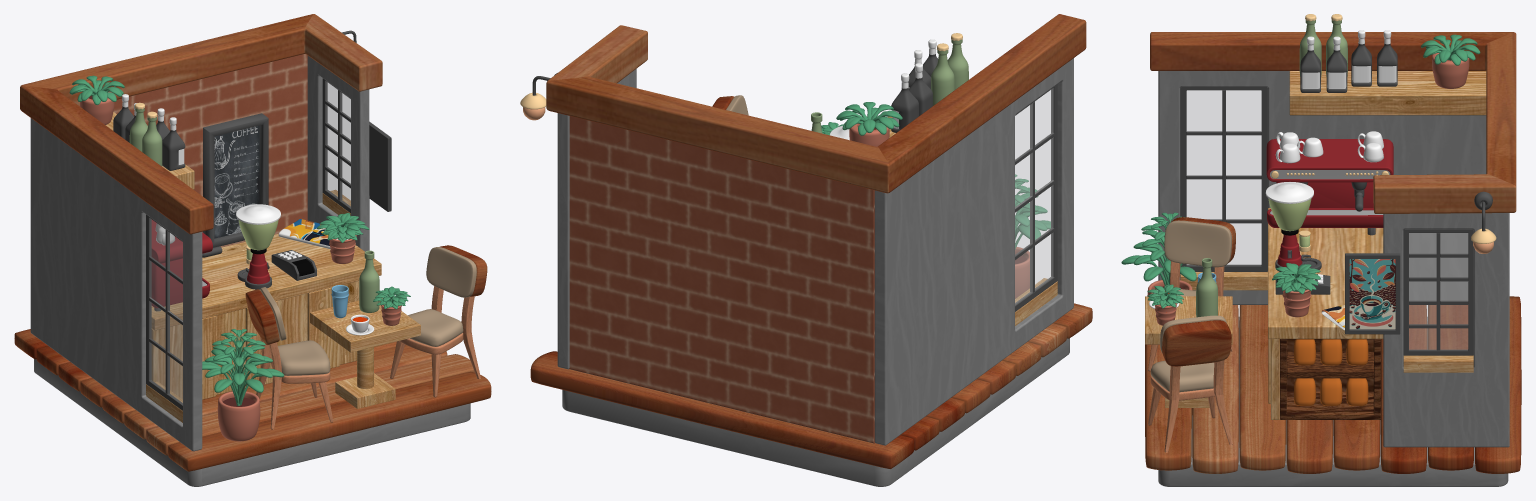
3 renders of one model, left to right at view 1: azimuth 30°, elevation 25°; view 2: azimuth 150°, elevation 25°; view 3: azimuth 270°, elevation 25°, orthographic. The views are drawn at different scales.
Visible parts, largest first — view 1: Base, Stand, Table_Side_1, glass.002, glass.001, Plane.185, Circle.041, Plant_4; view 2: Base, glass.002, Plane.188, Circle.043, Table_Side_1, Circle.041, Plane.187; view 3: Base, Stand, Table_Side_1, glass.002, Table_Side_2, glass.001, Plane.186, Plant_4, Plane.188, Plane.187, Plane.185, Circle.041 (+1 smaller).
Boxes of the visible parts, x1=… form: Base: x1=14, y1=14, x2=491, y2=486; Stand: x1=151, y1=204, x2=381, y2=399; Table_Side_1: x1=245, y1=245, x2=487, y2=429; glass.002: x1=149, y1=218, x2=182, y2=404; glass.001: x1=325, y1=81, x2=350, y2=207; Plane.185: x1=162, y1=117, x2=185, y2=170; Circle.041: x1=142, y1=117, x2=162, y2=166; Plant_4: x1=80, y1=91, x2=114, y2=124; Base: x1=530, y1=14, x2=1092, y2=486; glass.002: x1=1015, y1=88, x2=1053, y2=304; Plane.188: x1=891, y1=73, x2=918, y2=132; Circle.043: x1=931, y1=50, x2=954, y2=105; Table_Side_1: x1=712, y1=95, x2=843, y2=135; Circle.041: x1=947, y1=39, x2=968, y2=89; Plane.187: x1=908, y1=63, x2=932, y2=115; Base: x1=1121, y1=32, x2=1521, y2=486; Stand: x1=1265, y1=131, x2=1393, y2=419; Table_Side_1: x1=1145, y1=217, x2=1235, y2=452; glass.002: x1=1187, y1=90, x2=1261, y2=264; Table_Side_2: x1=1289, y1=71, x2=1486, y2=115; glass.001: x1=1409, y1=233, x2=1467, y2=349; Plane.186: x1=1326, y1=36, x2=1347, y2=92; Plant_4: x1=1432, y1=53, x2=1469, y2=88; Plane.188: x1=1377, y1=30, x2=1397, y2=86; Plane.187: x1=1351, y1=30, x2=1371, y2=86; Plane.185: x1=1300, y1=36, x2=1320, y2=92; Circle.041: x1=1299, y1=19, x2=1321, y2=76.
Bounding box in the file's own units: 9.5 × 8.58 × 9.15.
37 materials, 11 textured.
